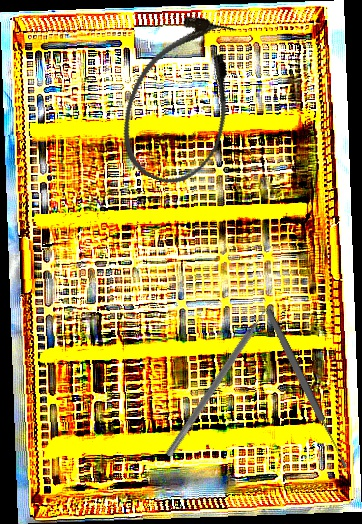Cannula: (106, 3, 258, 196)
Spatula Surgical: (164, 299, 279, 463)
Surgical Spoon: (263, 307, 350, 471)
